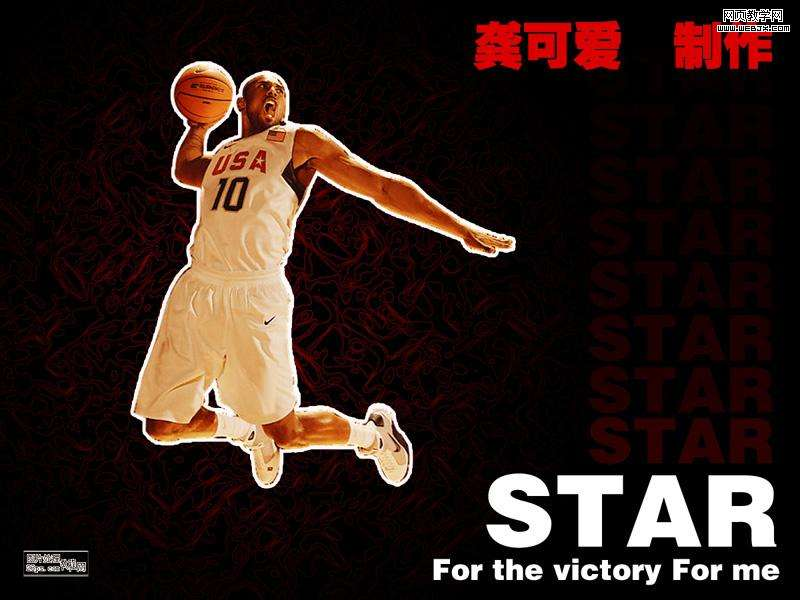ball: (171, 60, 235, 125)
